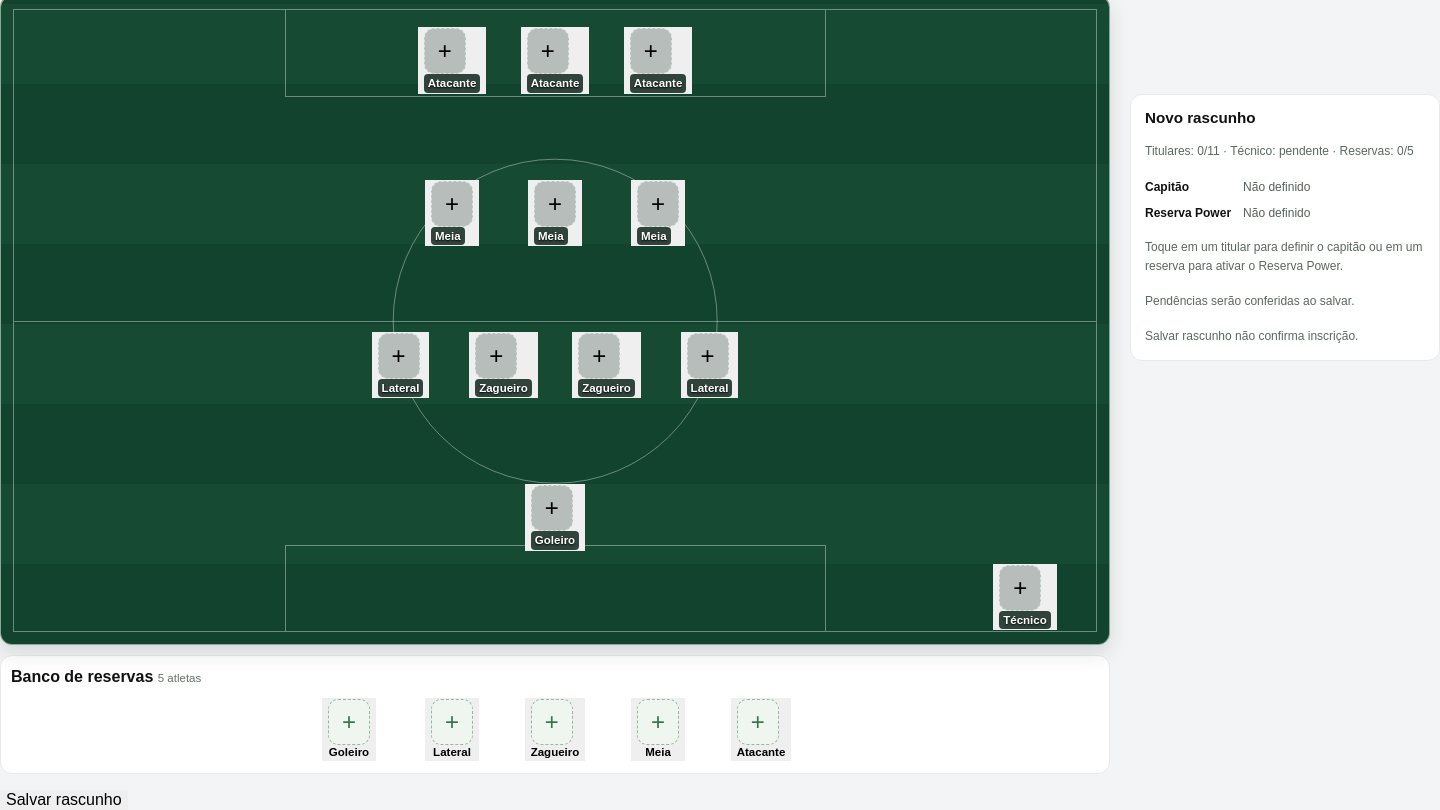
it: Server public identity › validates names and preserves the input after a rejected request
(page scrolled)
Click the button "Salvar rascunho".
click(64, 800)  # box [0,790,128,809]
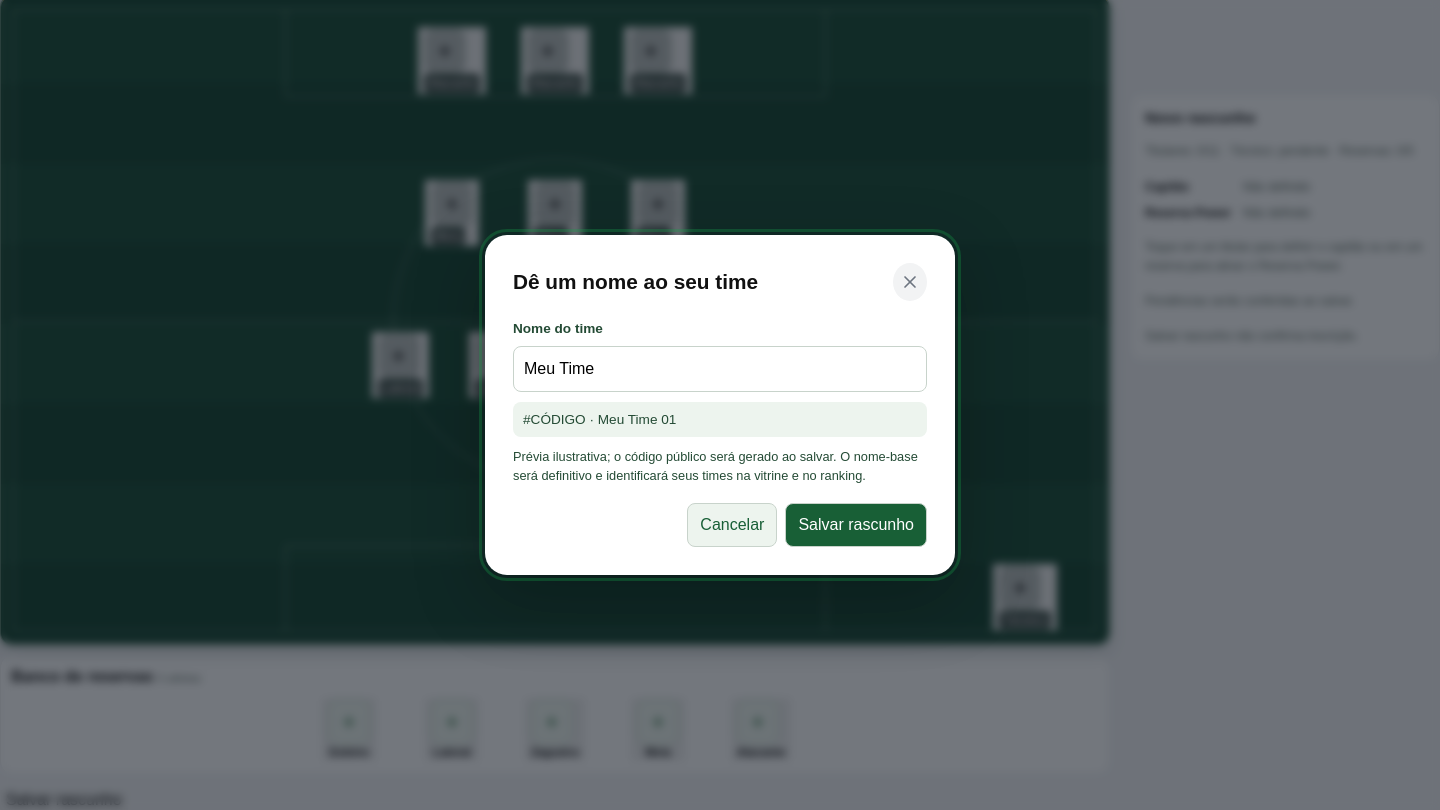
Replace the text in the field with "⚽" at (720, 369), box [513,346,927,392]
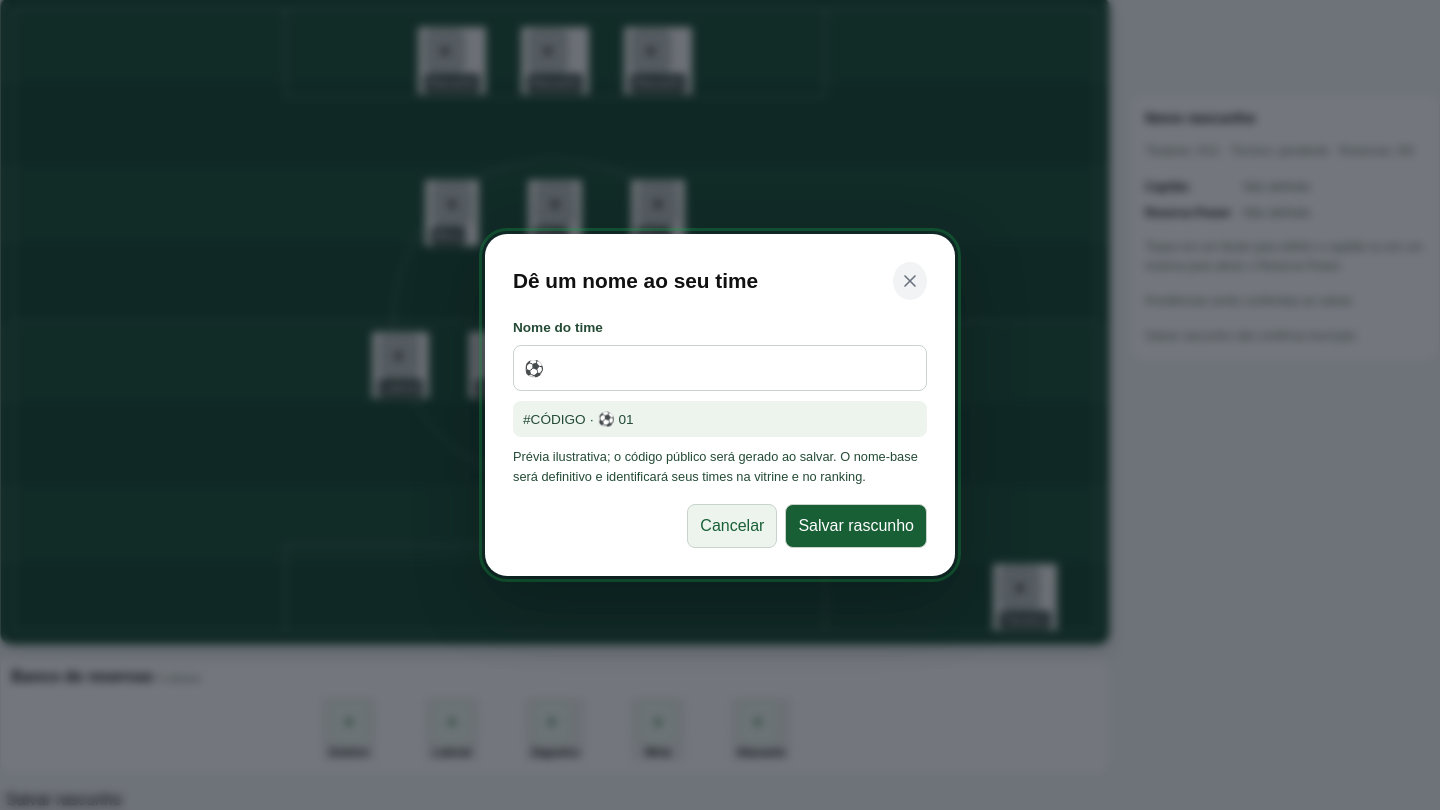
Submit the form, box [513,320,927,548]
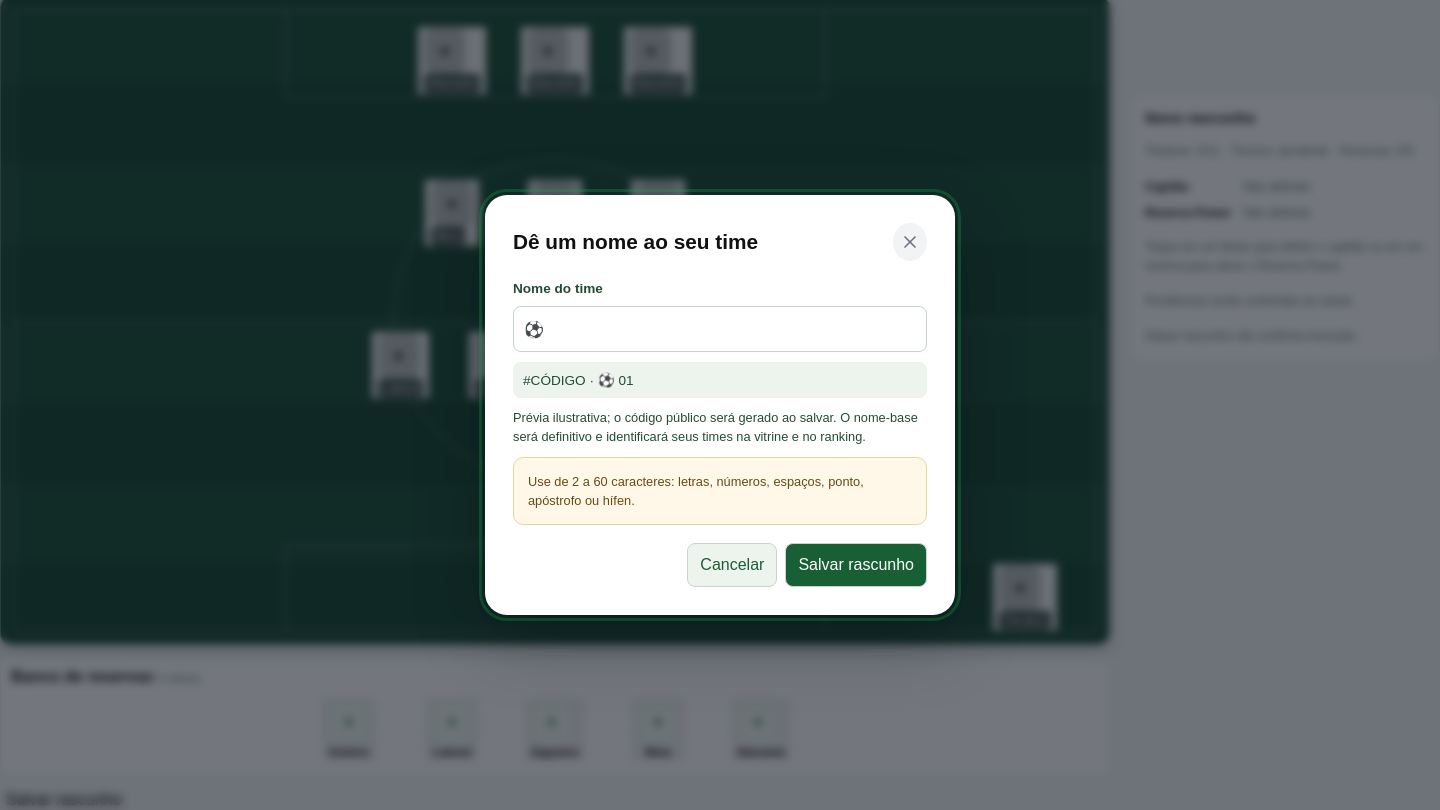
Replace the text in the field with "Tropa do Mago" at (720, 329), box [513,306,927,352]
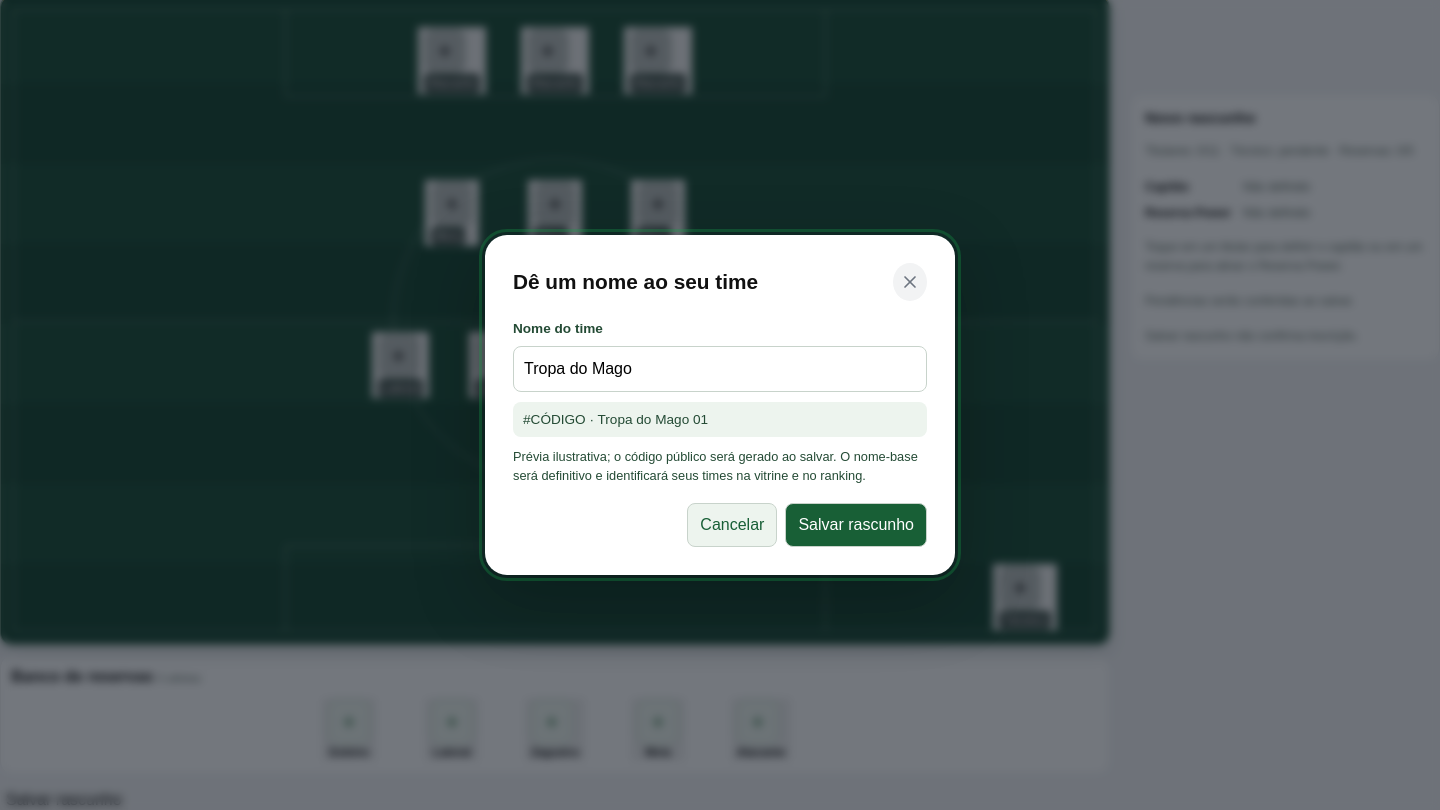
Submit the form, box [513,321,927,547]
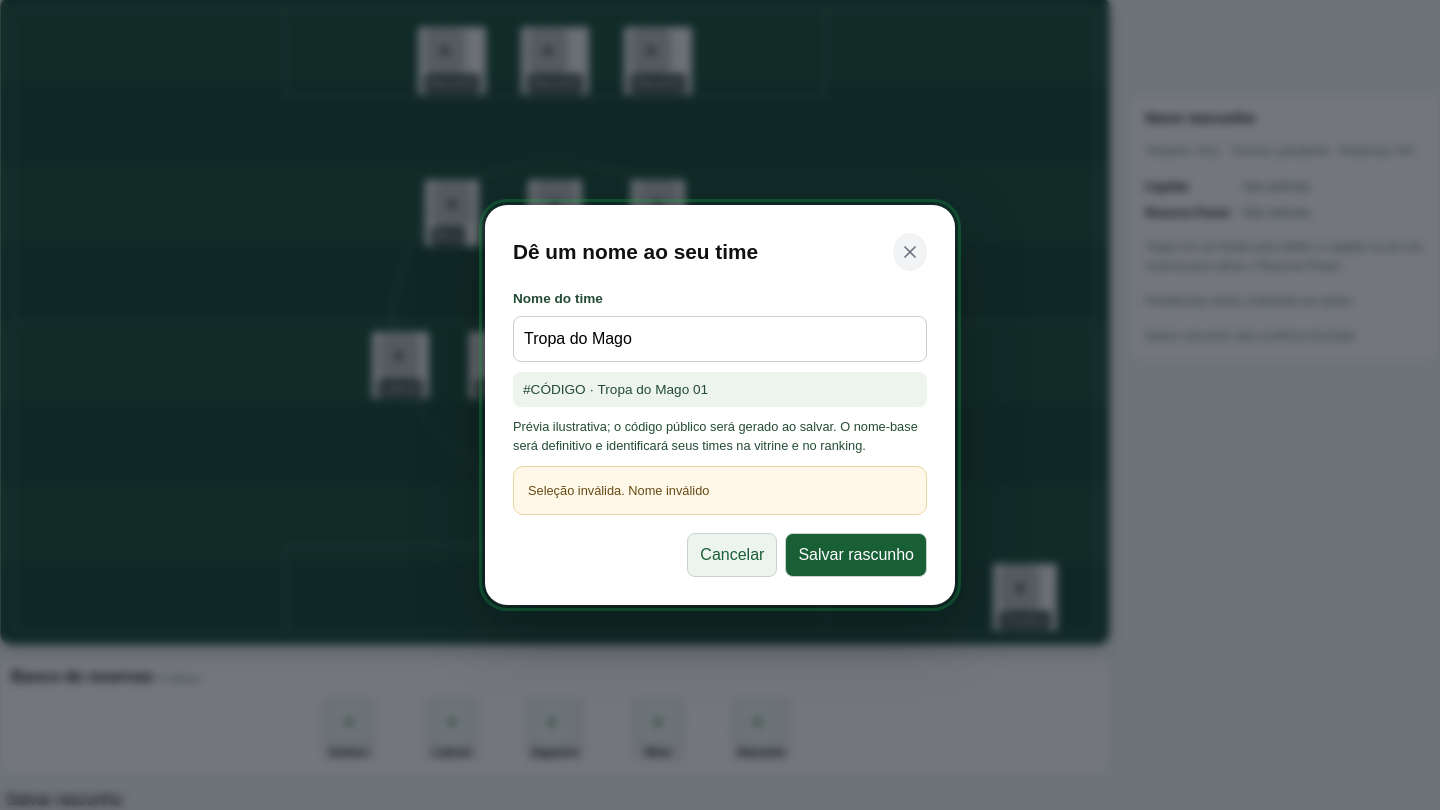
Check: the dialog is shown, box [485,205,955,605]
Check: the message "Seleção inválida. Nome inválido" is shown, box [513,466,927,515]
